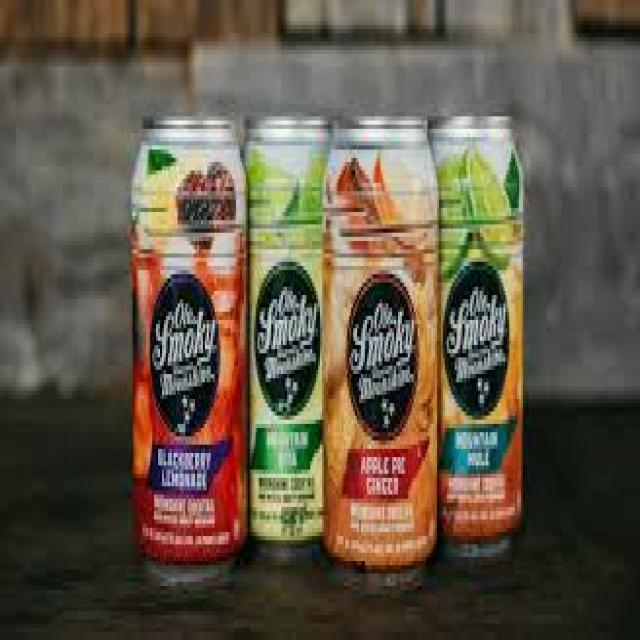Cans: (123, 104, 254, 582), (318, 112, 439, 582), (433, 104, 533, 557)
